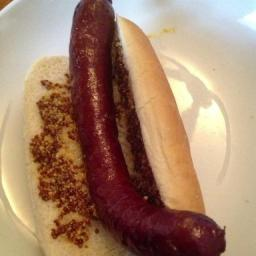hotdog: (20, 0, 225, 256)
